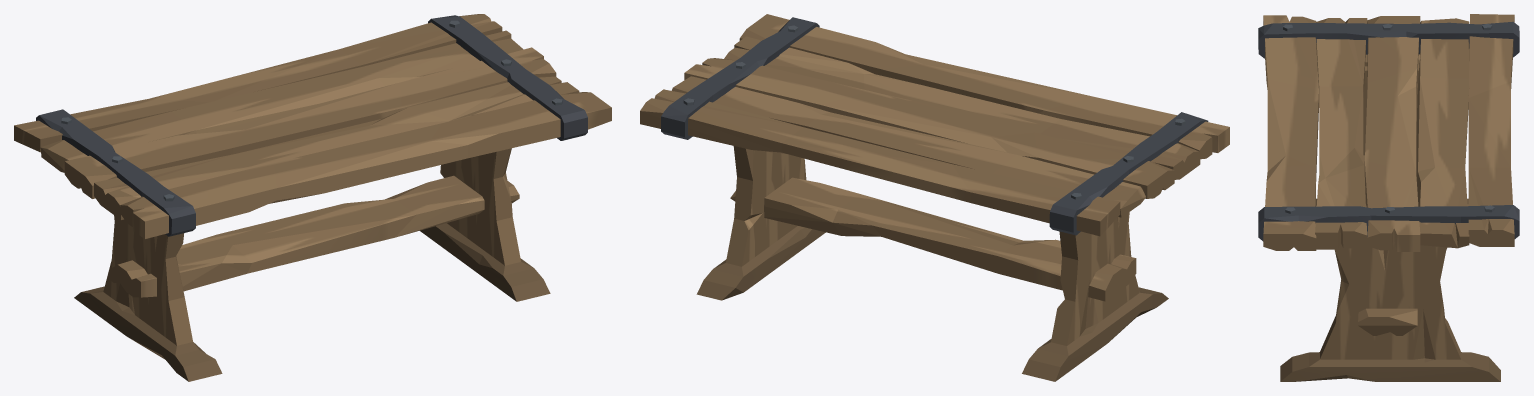
The model's file is SM_Prop_Table_02.fbx.
3 views of the same model, side by side, from view 1: azimuth 30°, elevation 25°; view 2: azimuth 150°, elevation 25°; view 3: azimuth 270°, elevation 25° (orthographic). The views are drawn at different scales.
Visible parts, largest first — view 1: SM_Prop_Table_02; view 2: SM_Prop_Table_02; view 3: SM_Prop_Table_02.
Boxes of the visible parts, x1,y1,x2,y2 form: SM_Prop_Table_02: (14,14,611,381); SM_Prop_Table_02: (640,14,1229,381); SM_Prop_Table_02: (1258,14,1519,381).
Size of the model in its own units: 256 by 98.09 by 129.
